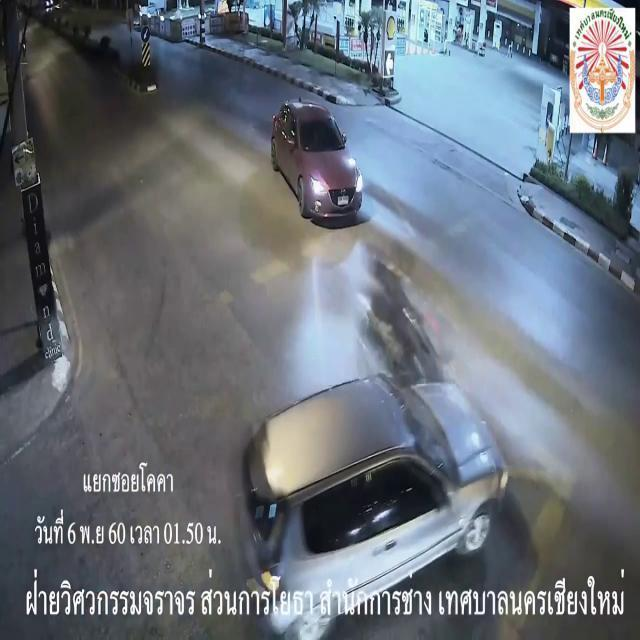accident: (233, 262, 513, 640)
